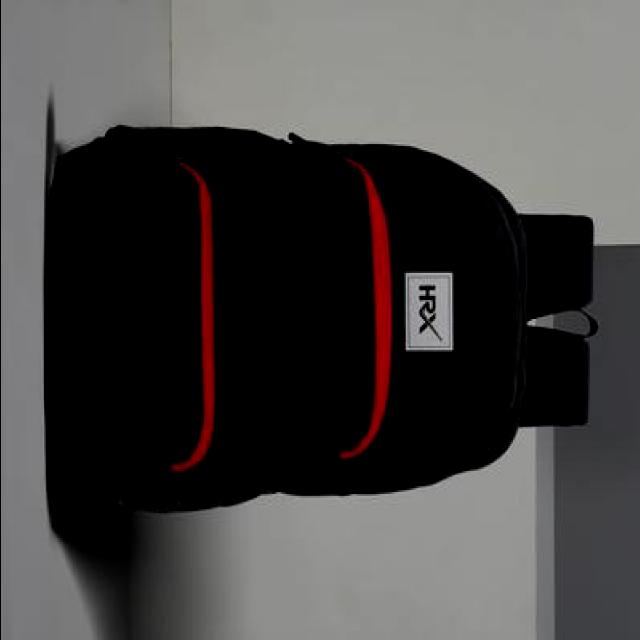backpack: (46, 124, 600, 514)
